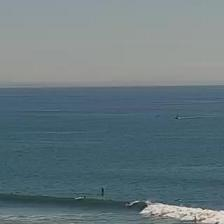surfer: (101, 187, 105, 196), (175, 198, 182, 201), (125, 202, 131, 205)
